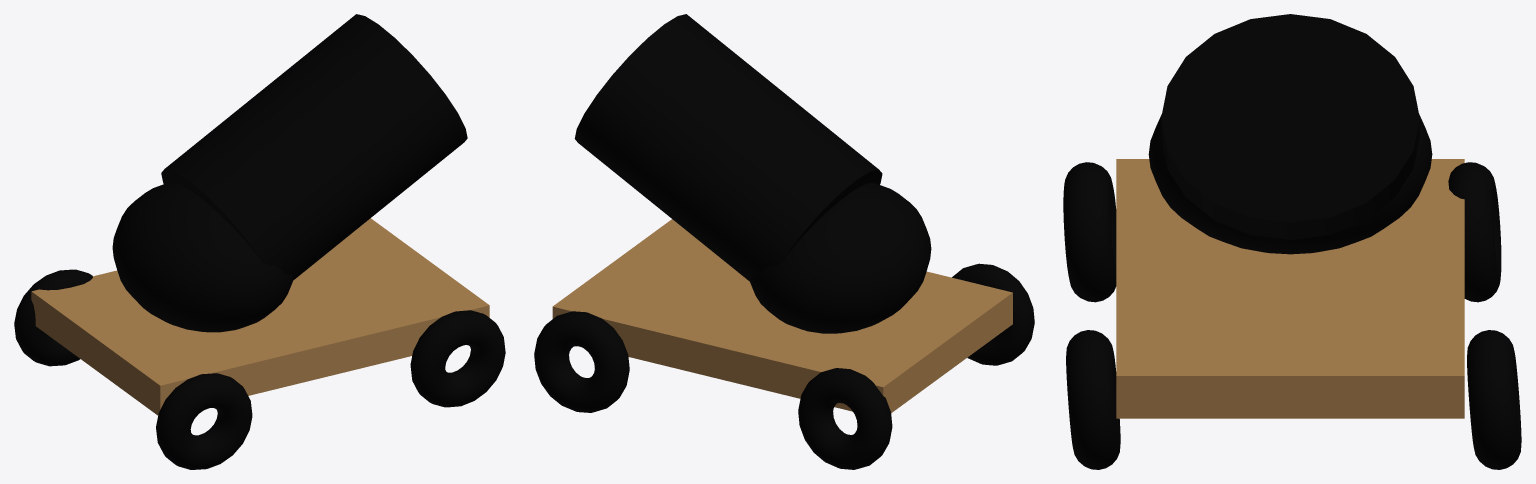
The model's file is Cannon.fbx.
3 renders of one model, left to right at view 1: azimuth 30°, elevation 25°; view 2: azimuth 150°, elevation 25°; view 3: azimuth 270°, elevation 25°, orthographic. The views are drawn at different scales.
Parts seen in each view (by area): view 1: cannon; view 2: cannon; view 3: cannon.
Boxes of the visible parts, left/top/right/bottom form: cannon: left=14, top=14, right=505, bottom=469; cannon: left=534, top=14, right=1034, bottom=469; cannon: left=1063, top=14, right=1521, bottom=469.
Bounding box in the file's own units: 11.8 × 10.43 × 9.72.
